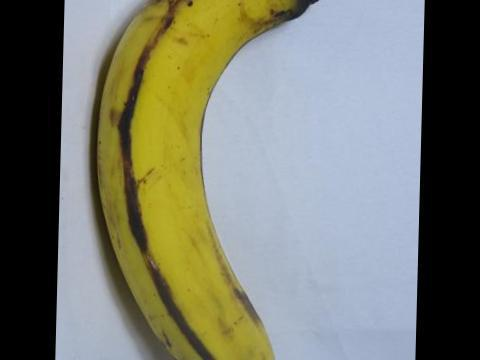ripe: (84, 0, 334, 359)
